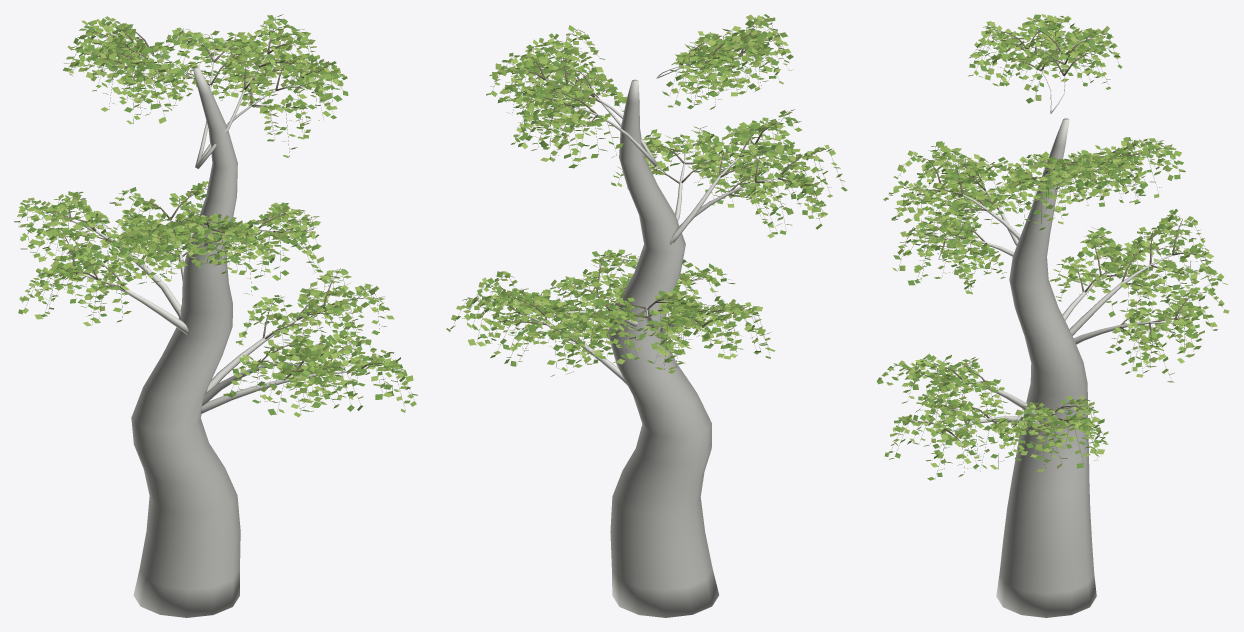
The model's file is birch_1034_2026_L0.glb.
The picture shows the model from 3 angles, left to right: view 1: azimuth 30°, elevation 25°; view 2: azimuth 150°, elevation 25°; view 3: azimuth 270°, elevation 25°; orthographic projection. The views are drawn at different scales.
Visible parts, largest first — view 1: birch_trunk, birch_part3, birch_part1, birch_part2, birch_part0, birch_part94, birch_part90, birch_part89, birch_part95; view 2: birch_trunk, birch_part1, birch_part2, birch_part3, birch_part0; view 3: birch_trunk, birch_part2, birch_part3, birch_part1, birch_part0, birch_part95.
Part boxes in pixels (<box>): birch_trunk: <box>131,67,240,617</box>; birch_part3: <box>17,14,410,413</box>; birch_part1: <box>18,15,417,415</box>; birch_part2: <box>14,16,416,417</box>; birch_part0: <box>18,17,412,414</box>; birch_part94: <box>201,371,356,414</box>; birch_part90: <box>77,273,188,334</box>; birch_part89: <box>207,310,318,391</box>; birch_part95: <box>71,220,181,319</box>; birch_trunk: <box>608,79,718,617</box>; birch_part1: <box>446,14,847,376</box>; birch_part2: <box>451,16,842,373</box>; birch_part3: <box>449,14,845,374</box>; birch_part0: <box>450,17,837,371</box>; birch_trunk: <box>996,118,1096,617</box>; birch_part2: <box>877,17,1224,480</box>; birch_part3: <box>882,14,1229,476</box>; birch_part1: <box>876,14,1223,476</box>; birch_part0: <box>885,17,1222,473</box>; birch_part95: <box>1069,255,1172,335</box>.
Size of the model in its own units: 4.09 by 6.6 by 3.9.
Materials: 5 (5 with a texture image).
